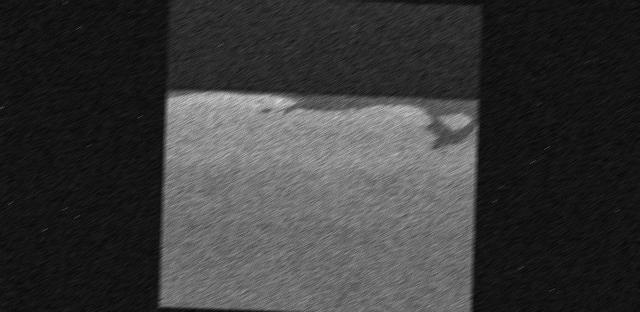water_spot: (164, 72, 479, 156)
